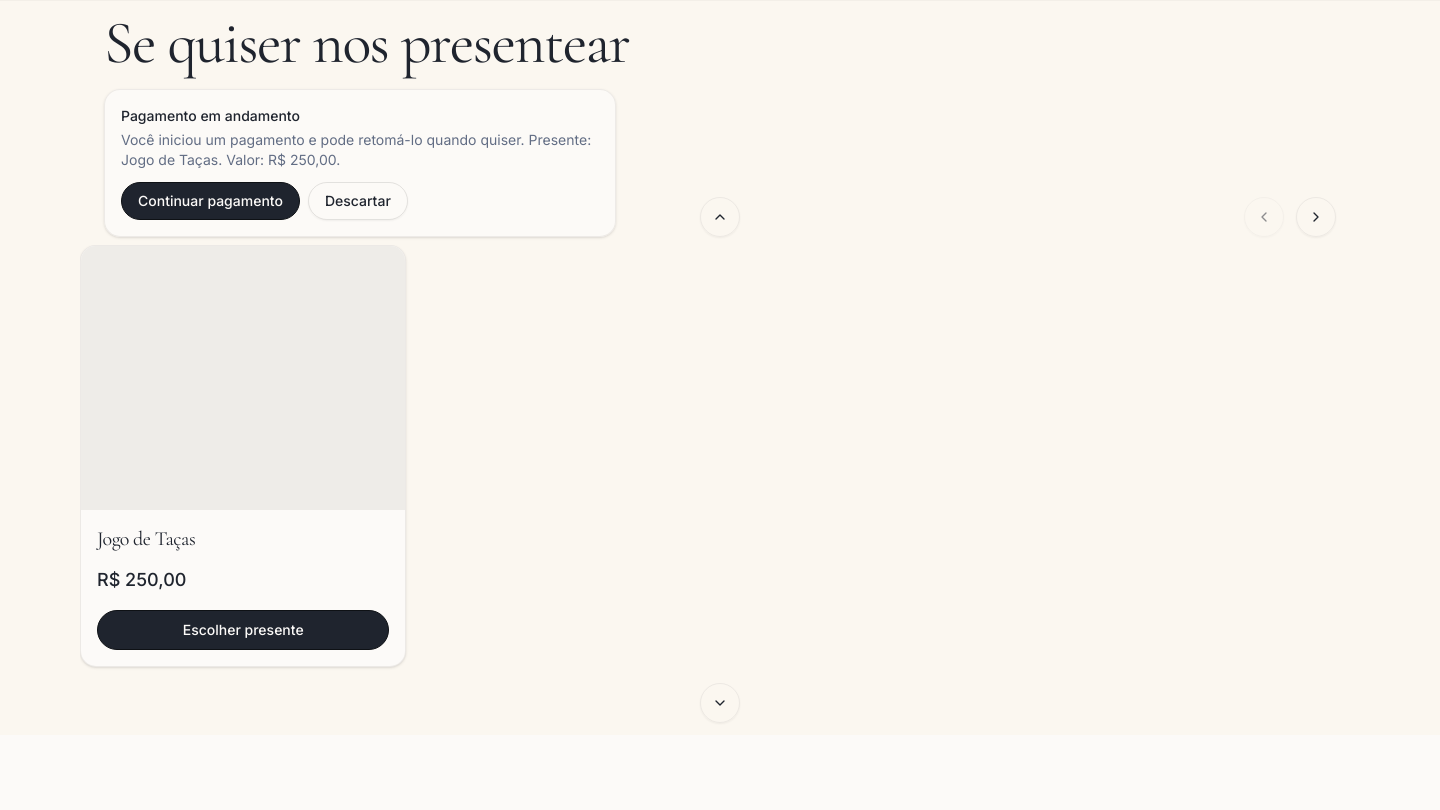
Test case: Presentes › removes the recovery surface when resume finds the payment canceled
The width and height of the screenshot is (1440, 810).
Expected: the text "Pagamento em andamento" is shown, [121,107,300,124]
Click the button "Continuar pagamento". click: (210, 201)
box: [121,182,300,220]
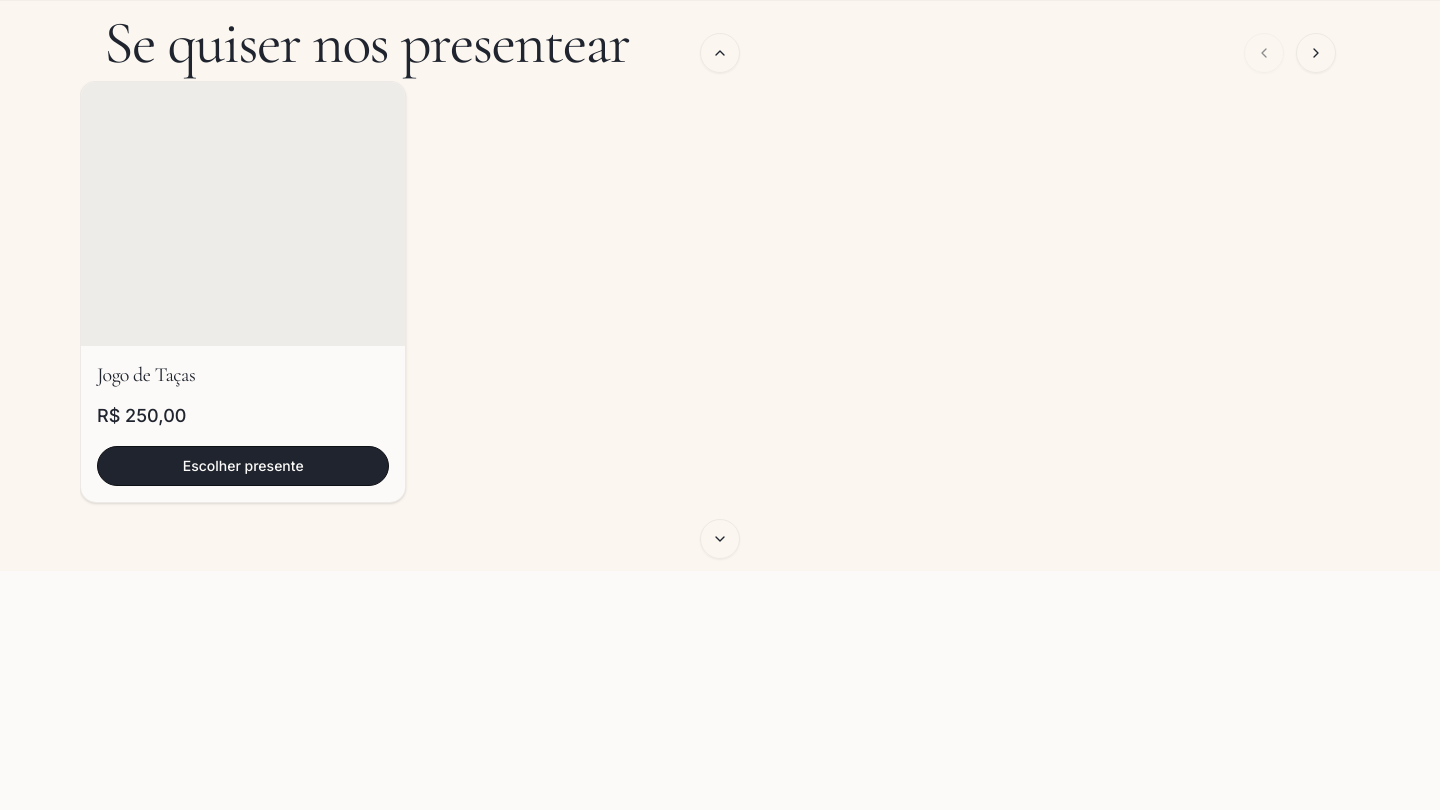
Now the text "Pagamento em andamento" is gone
